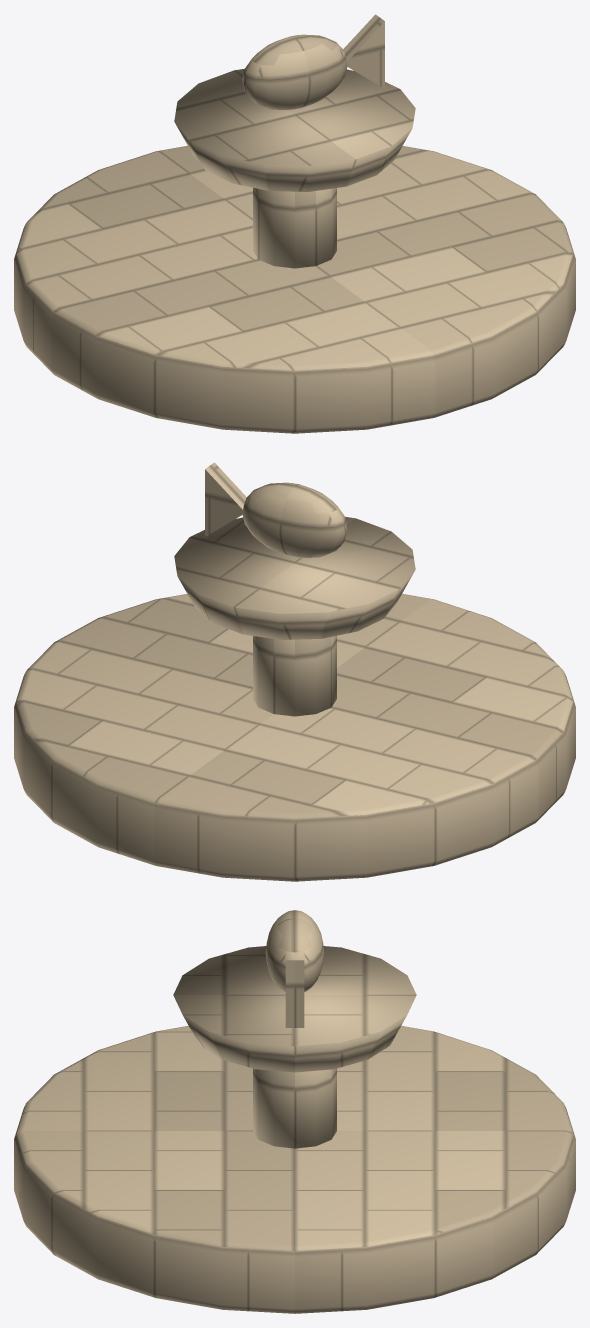
The model's file is fountain.gltf.
3 views of the same model, one above another, from view 1: azimuth 30°, elevation 25°; view 2: azimuth 150°, elevation 25°; view 3: azimuth 270°, elevation 25° (orthographic).
Parts seen in each view (by area): view 1: fountain_mesh; view 2: fountain_mesh; view 3: fountain_mesh.
Boxes of the visible parts, x1,y1,x2,y2 form: fountain_mesh: (14, 14, 575, 433); fountain_mesh: (14, 462, 575, 881); fountain_mesh: (14, 910, 575, 1313).
Size of what is drawn, in the model's own units: 6 by 3.31 by 6.
Materials: 2 (2 with a texture image).
